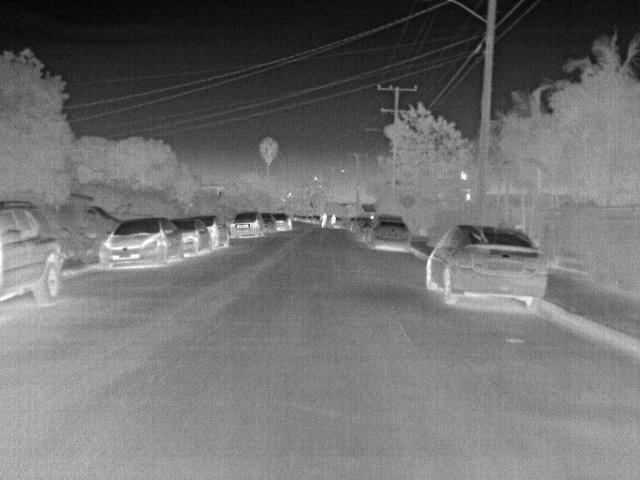car: (424, 225, 549, 311), (1, 198, 64, 308), (95, 215, 185, 270), (172, 216, 211, 256), (371, 219, 411, 253), (228, 210, 265, 238), (203, 216, 229, 246), (259, 211, 279, 233), (357, 219, 376, 241), (271, 212, 293, 229), (352, 220, 364, 234)
person: (317, 212, 330, 230), (329, 213, 338, 227)
